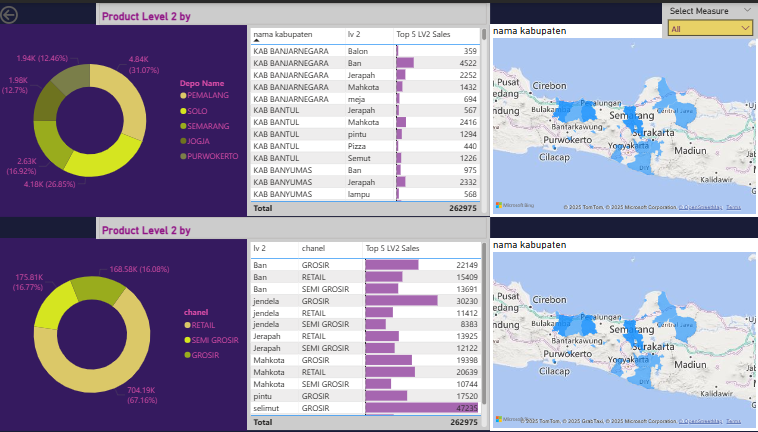

Layout of this report page (visuals, bound fields, positions):
{"tool":"powerbi","page":{"name":"top product","canvas":[1280,720],"ordinal":1},"visuals":[{"type":"donutChart","fields":{"Category":["penjualan 24.Depo Name"],"Y":["CountNonNull(penjualan 24.Kabupaten)"]},"box":[0,35.3,419.9,324.2],"z":0},{"type":"filledMap","fields":{"Category":["ACT.nama kabupaten"]},"box":[828.1,35.3,451.9,324.2],"z":1000},{"type":"tableEx","fields":{"Values":["ACT.nama kabupaten","ACT.lv 2","ACT.Top 5 LV2 Sales"]},"box":[419.9,37,408.2,320.8],"z":2000},{"type":"donutChart","fields":{"Category":["ACT.chanel"],"Y":["CountNonNull(ACT.lv 2)"]},"box":[0,394.8,419.9,324.2],"z":3000},{"type":"tableEx","fields":{"Values":["ACT.lv 2","ACT.chanel","ACT.Top 5 LV2 Sales"]},"box":[419.9,396.4,408.2,320.8],"z":4000},{"type":"filledMap","fields":{"Category":["ACT.nama kabupaten"]},"box":[828.1,394.8,451.9,324.2],"z":5000},{"type":"cardVisual","fields":{"Data":["ACT.Title"]},"box":[166.3,0,661.8,37],"z":6000},{"type":"slicer","fields":{"Values":["Select Measure.Select Measure"]},"box":[1117.1,0,162.9,60.5],"z":7000},{"type":"actionButton","box":[0,0,100,40],"z":8000},{"type":"cardVisual","fields":{"Data":["ACT.Title"]},"box":[166.3,359.5,661.8,37],"z":9000}]}

Visuals, with their boxes in screenshot pixels (x1, y1, x2, y2), scaled from the page's 1280x720 canvas onto the 758x432 screenshot:
donutChart - penjualan 24.Depo Name x CountNonNull(penjualan 24.Kabupaten): Rect(0, 21, 249, 216)
filledMap - ACT.nama kabupaten: Rect(490, 21, 757, 216)
tableEx - ACT.nama kabupaten x ACT.lv 2: Rect(249, 22, 490, 215)
donutChart - ACT.chanel x CountNonNull(ACT.lv 2): Rect(0, 237, 249, 431)
tableEx - ACT.lv 2 x ACT.chanel: Rect(249, 238, 490, 430)
filledMap - ACT.nama kabupaten: Rect(490, 237, 757, 431)
cardVisual - ACT.Title: Rect(98, 0, 490, 22)
slicer - Select Measure.Select Measure: Rect(662, 0, 757, 36)
actionButton: Rect(0, 0, 59, 24)
cardVisual - ACT.Title: Rect(98, 216, 490, 238)
